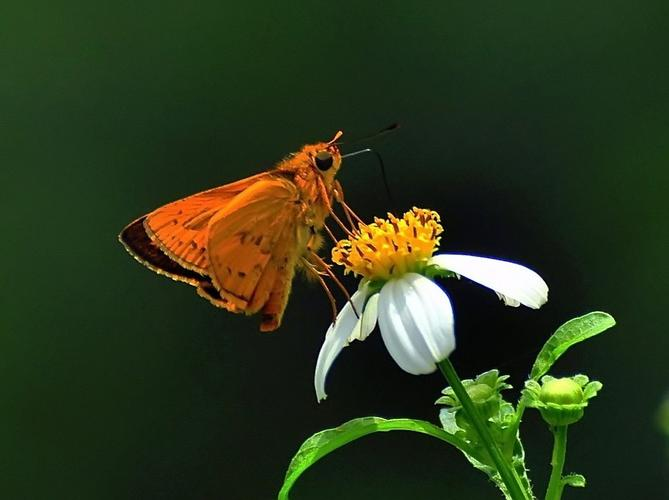Hesperiidae: (113, 113, 405, 340)
